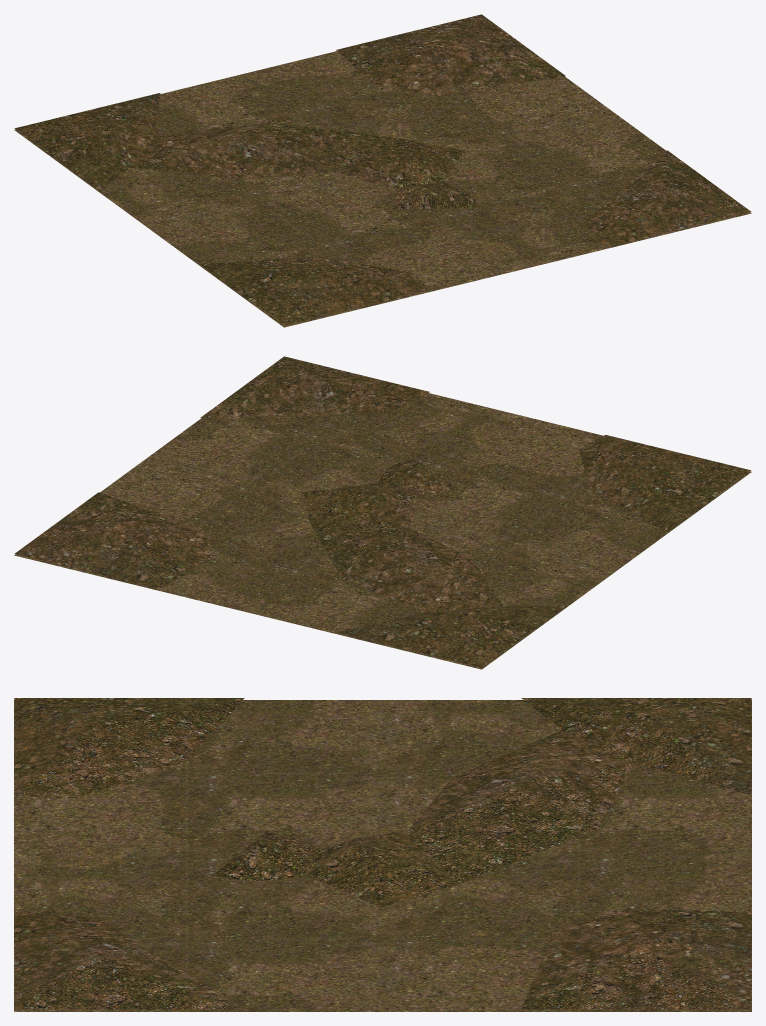
Rendered from Garden_06_Art.fbx.
3 views of the same model, one above another, from view 1: azimuth 30°, elevation 25°; view 2: azimuth 150°, elevation 25°; view 3: azimuth 270°, elevation 25° (orthographic). The views are drawn at different scales.
Parts seen in each view (by area): view 1: Garden_06_Art; view 2: Garden_06_Art; view 3: Garden_06_Art.
Boxes of the visible parts, box(x1,y1,x2,y2) form: Garden_06_Art: box(14, 14, 751, 327); Garden_06_Art: box(14, 356, 751, 669); Garden_06_Art: box(14, 698, 751, 1011).
Size of the model in its own units: 1598 by 50.07 by 1598.
